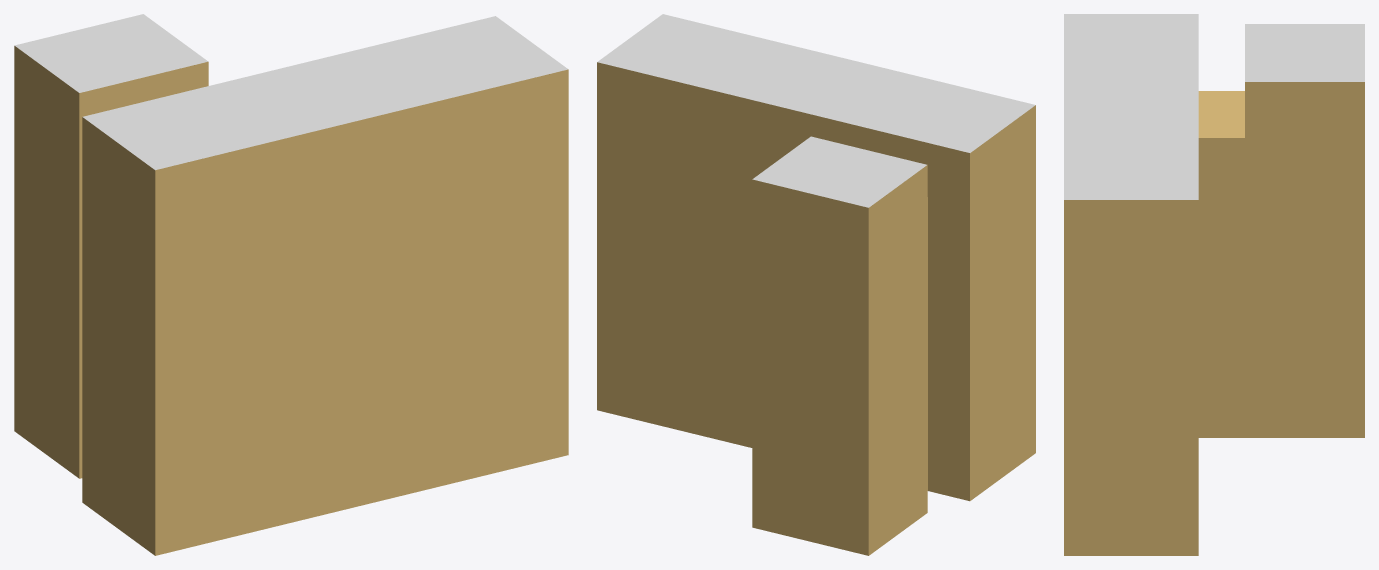
The model's file is Plant.glb.
The picture shows the model from 3 angles, left to right: view 1: azimuth 30°, elevation 25°; view 2: azimuth 150°, elevation 25°; view 3: azimuth 270°, elevation 25°; orthographic projection. The views are drawn at different scales.
Visible parts, largest first — view 1: Room_Plant; view 2: Room_Plant; view 3: Room_Plant.
Boxes of the visible parts, x1=… form: Room_Plant: x1=14, y1=14, x2=568, y2=555; Room_Plant: x1=597, y1=14, x2=1035, y2=555; Room_Plant: x1=1064, y1=14, x2=1364, y2=555.
Size of the model in its own units: 2.86 by 2.55 by 1.95.
